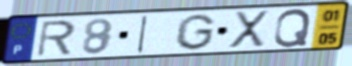8: (80, 17, 114, 56)
G: (173, 13, 218, 52)
I: (135, 14, 151, 55)
Q: (272, 7, 313, 49)
R: (35, 18, 79, 58)
X: (226, 9, 271, 49)
